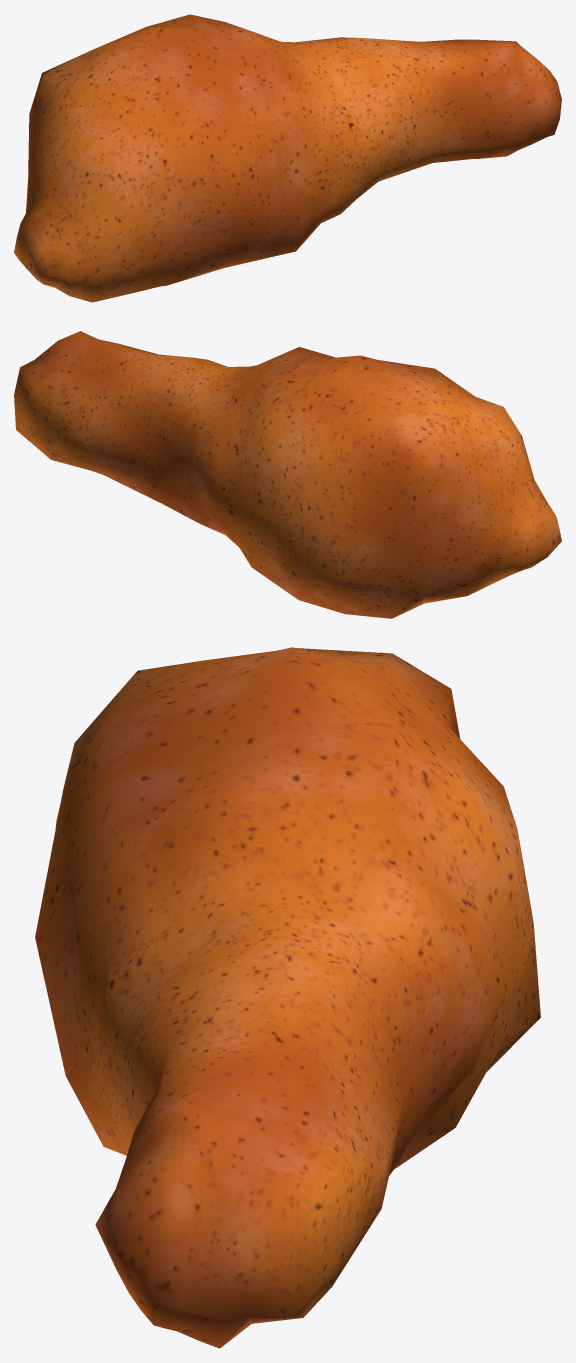
Rendered from FriedChicken_A.fbx.
3 views of the same model, one above another, from view 1: azimuth 30°, elevation 25°; view 2: azimuth 150°, elevation 25°; view 3: azimuth 270°, elevation 25° (orthographic). The views are drawn at different scales.
Visible parts, largest first — view 1: FriedChicken_A; view 2: FriedChicken_A; view 3: FriedChicken_A.
Part boxes in pixels (x1,y1,x2,y2): FriedChicken_A: [14, 14, 561, 302]; FriedChicken_A: [14, 331, 561, 618]; FriedChicken_A: [35, 647, 540, 1348].
Bounding box in the file's own units: 0.2285 × 0.1001 × 0.0966.
